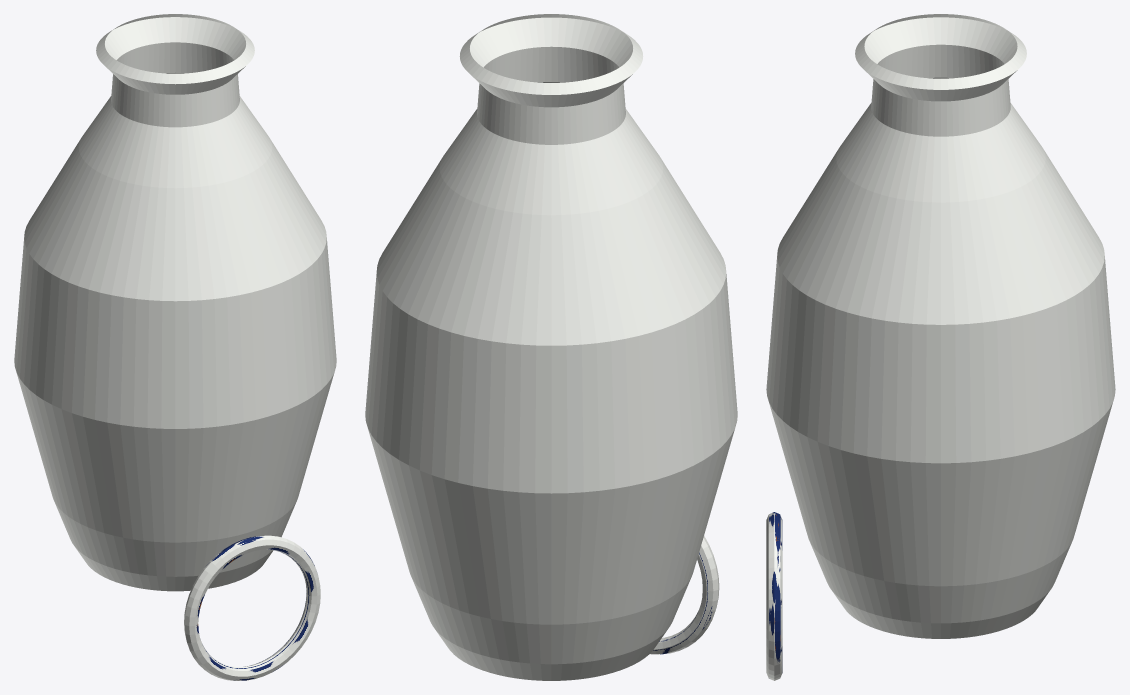
The model's file is yuan-blue-vase.glb.
3 renders of one model, left to right at view 1: azimuth 30°, elevation 25°; view 2: azimuth 150°, elevation 25°; view 3: azimuth 270°, elevation 25°, orthographic. The views are drawn at different scales.
Parts seen in each view (by area): view 1: meiping, Torus; view 2: meiping, Torus; view 3: meiping, Torus.
Boxes of the visible parts, x1,y1,x2,y2 form: meiping: [14, 14, 336, 591]; Torus: [184, 535, 320, 680]; meiping: [365, 14, 737, 680]; Torus: [650, 535, 719, 654]; meiping: [766, 14, 1115, 638]; Torus: [766, 512, 782, 680].
Size of the model in its own units: 0.26 by 0.515 by 0.26.
Materials: 1 (1 with a texture image).
